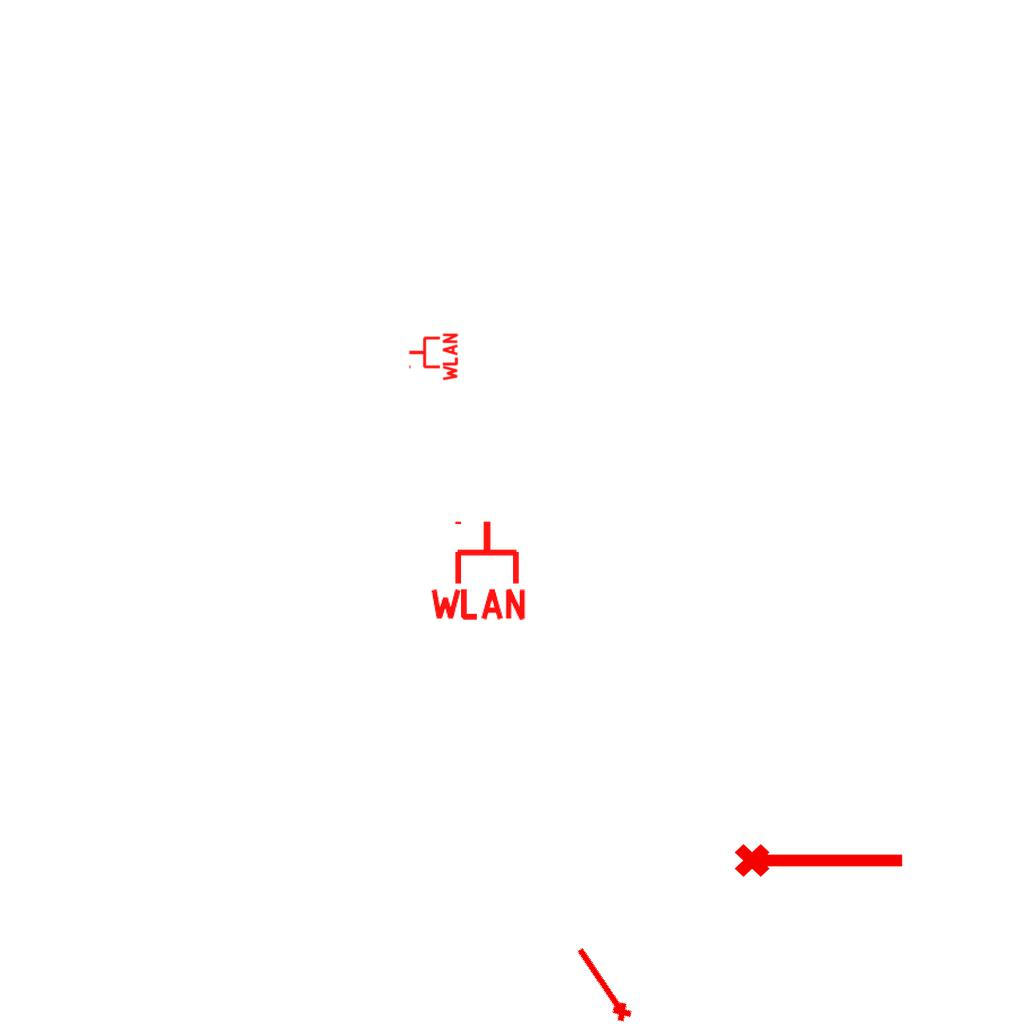ASR_Ansaugoeffnung: (732, 835, 908, 881), (567, 941, 637, 1024)
WLAN: (426, 517, 530, 622), (407, 331, 459, 383)
